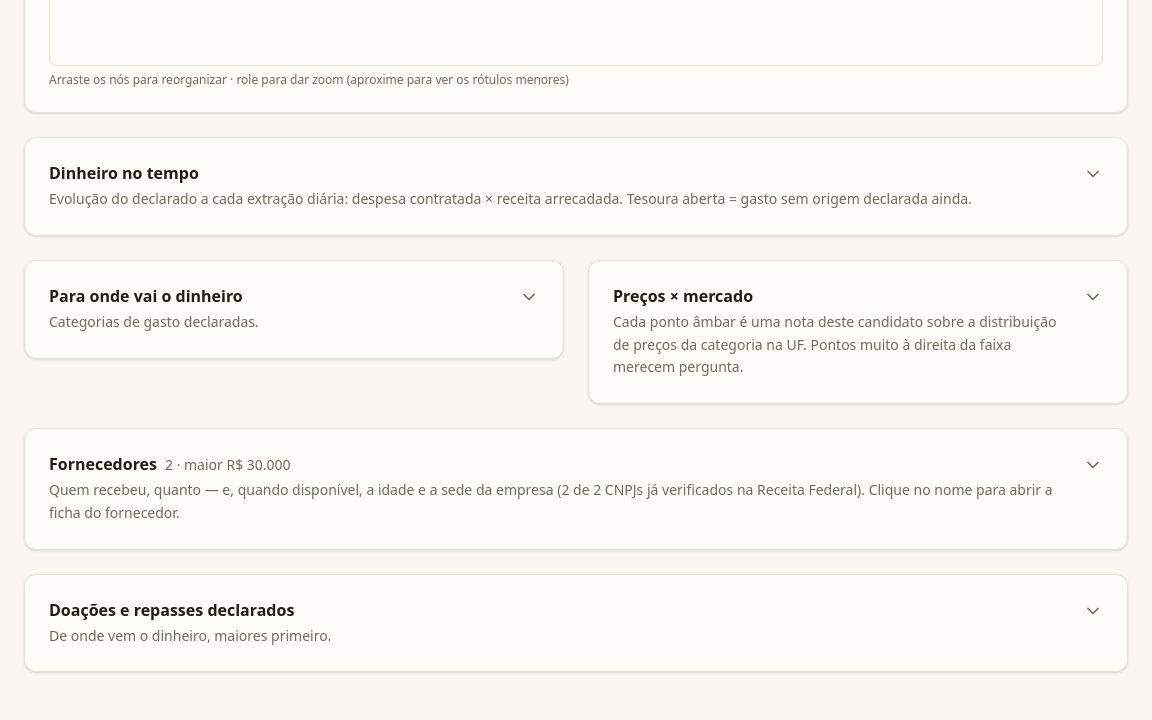
ficha do candidato · notas escondidas na linha do fornecedor › cada red flag por nota vira marca, e só na nota que a tem
The width and height of the screenshot is (1152, 720).
(page scrolled)
Click the heading "Fornecedores" at (576, 487), box [49, 453, 1103, 522]
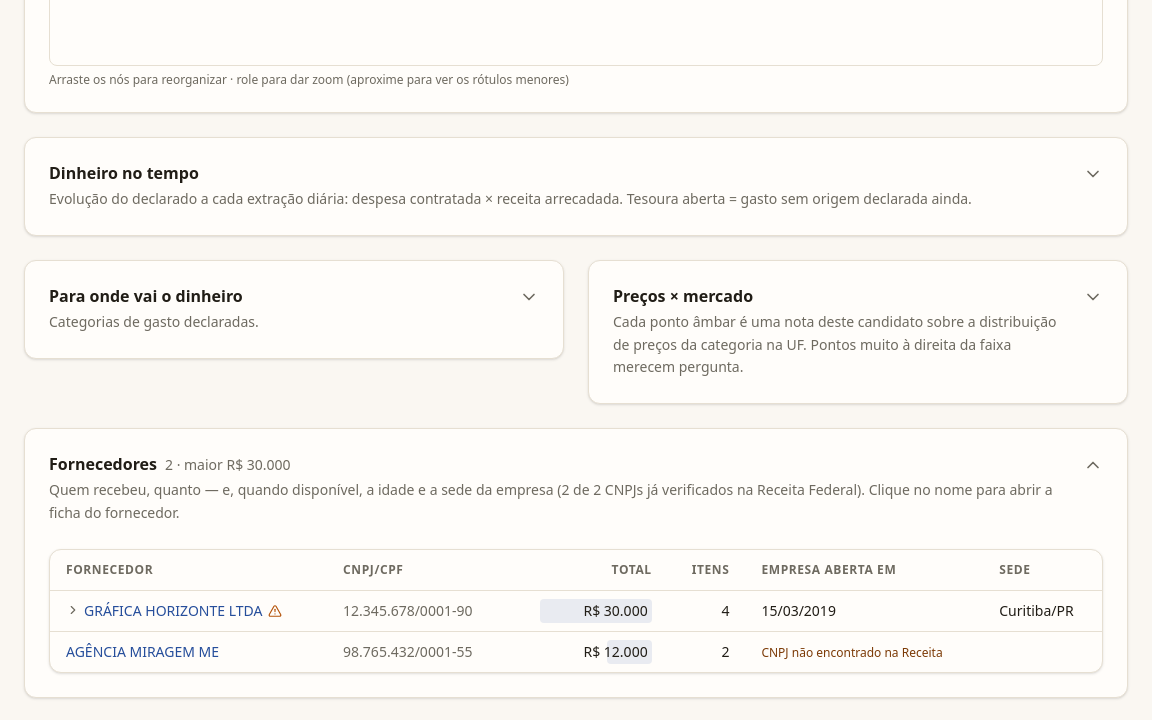
Click the text "GRÁFICA HORIZONTE LTDA" at (576, 610), box [50, 590, 1102, 631]
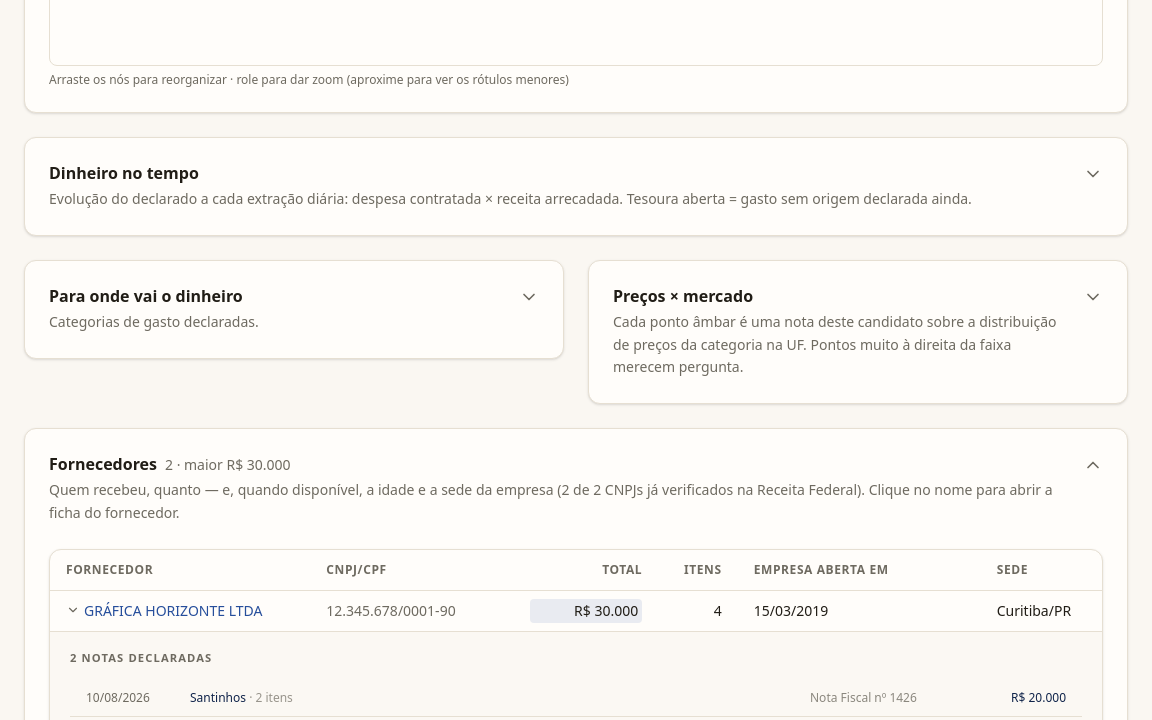
Now the text "· 2 itens" is shown, box [246, 688, 293, 706]
